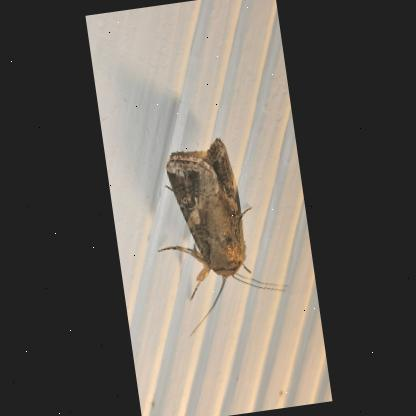Fall Armyworm Moth: (142, 130, 292, 340)
